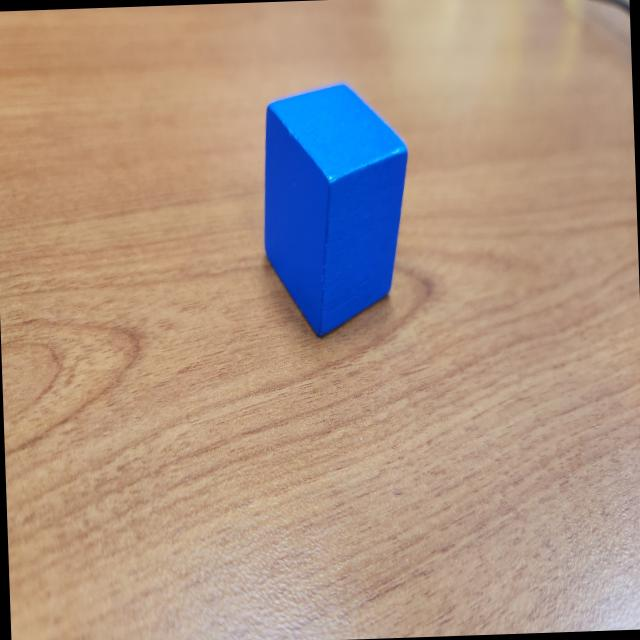blue: (256, 81, 414, 339)
